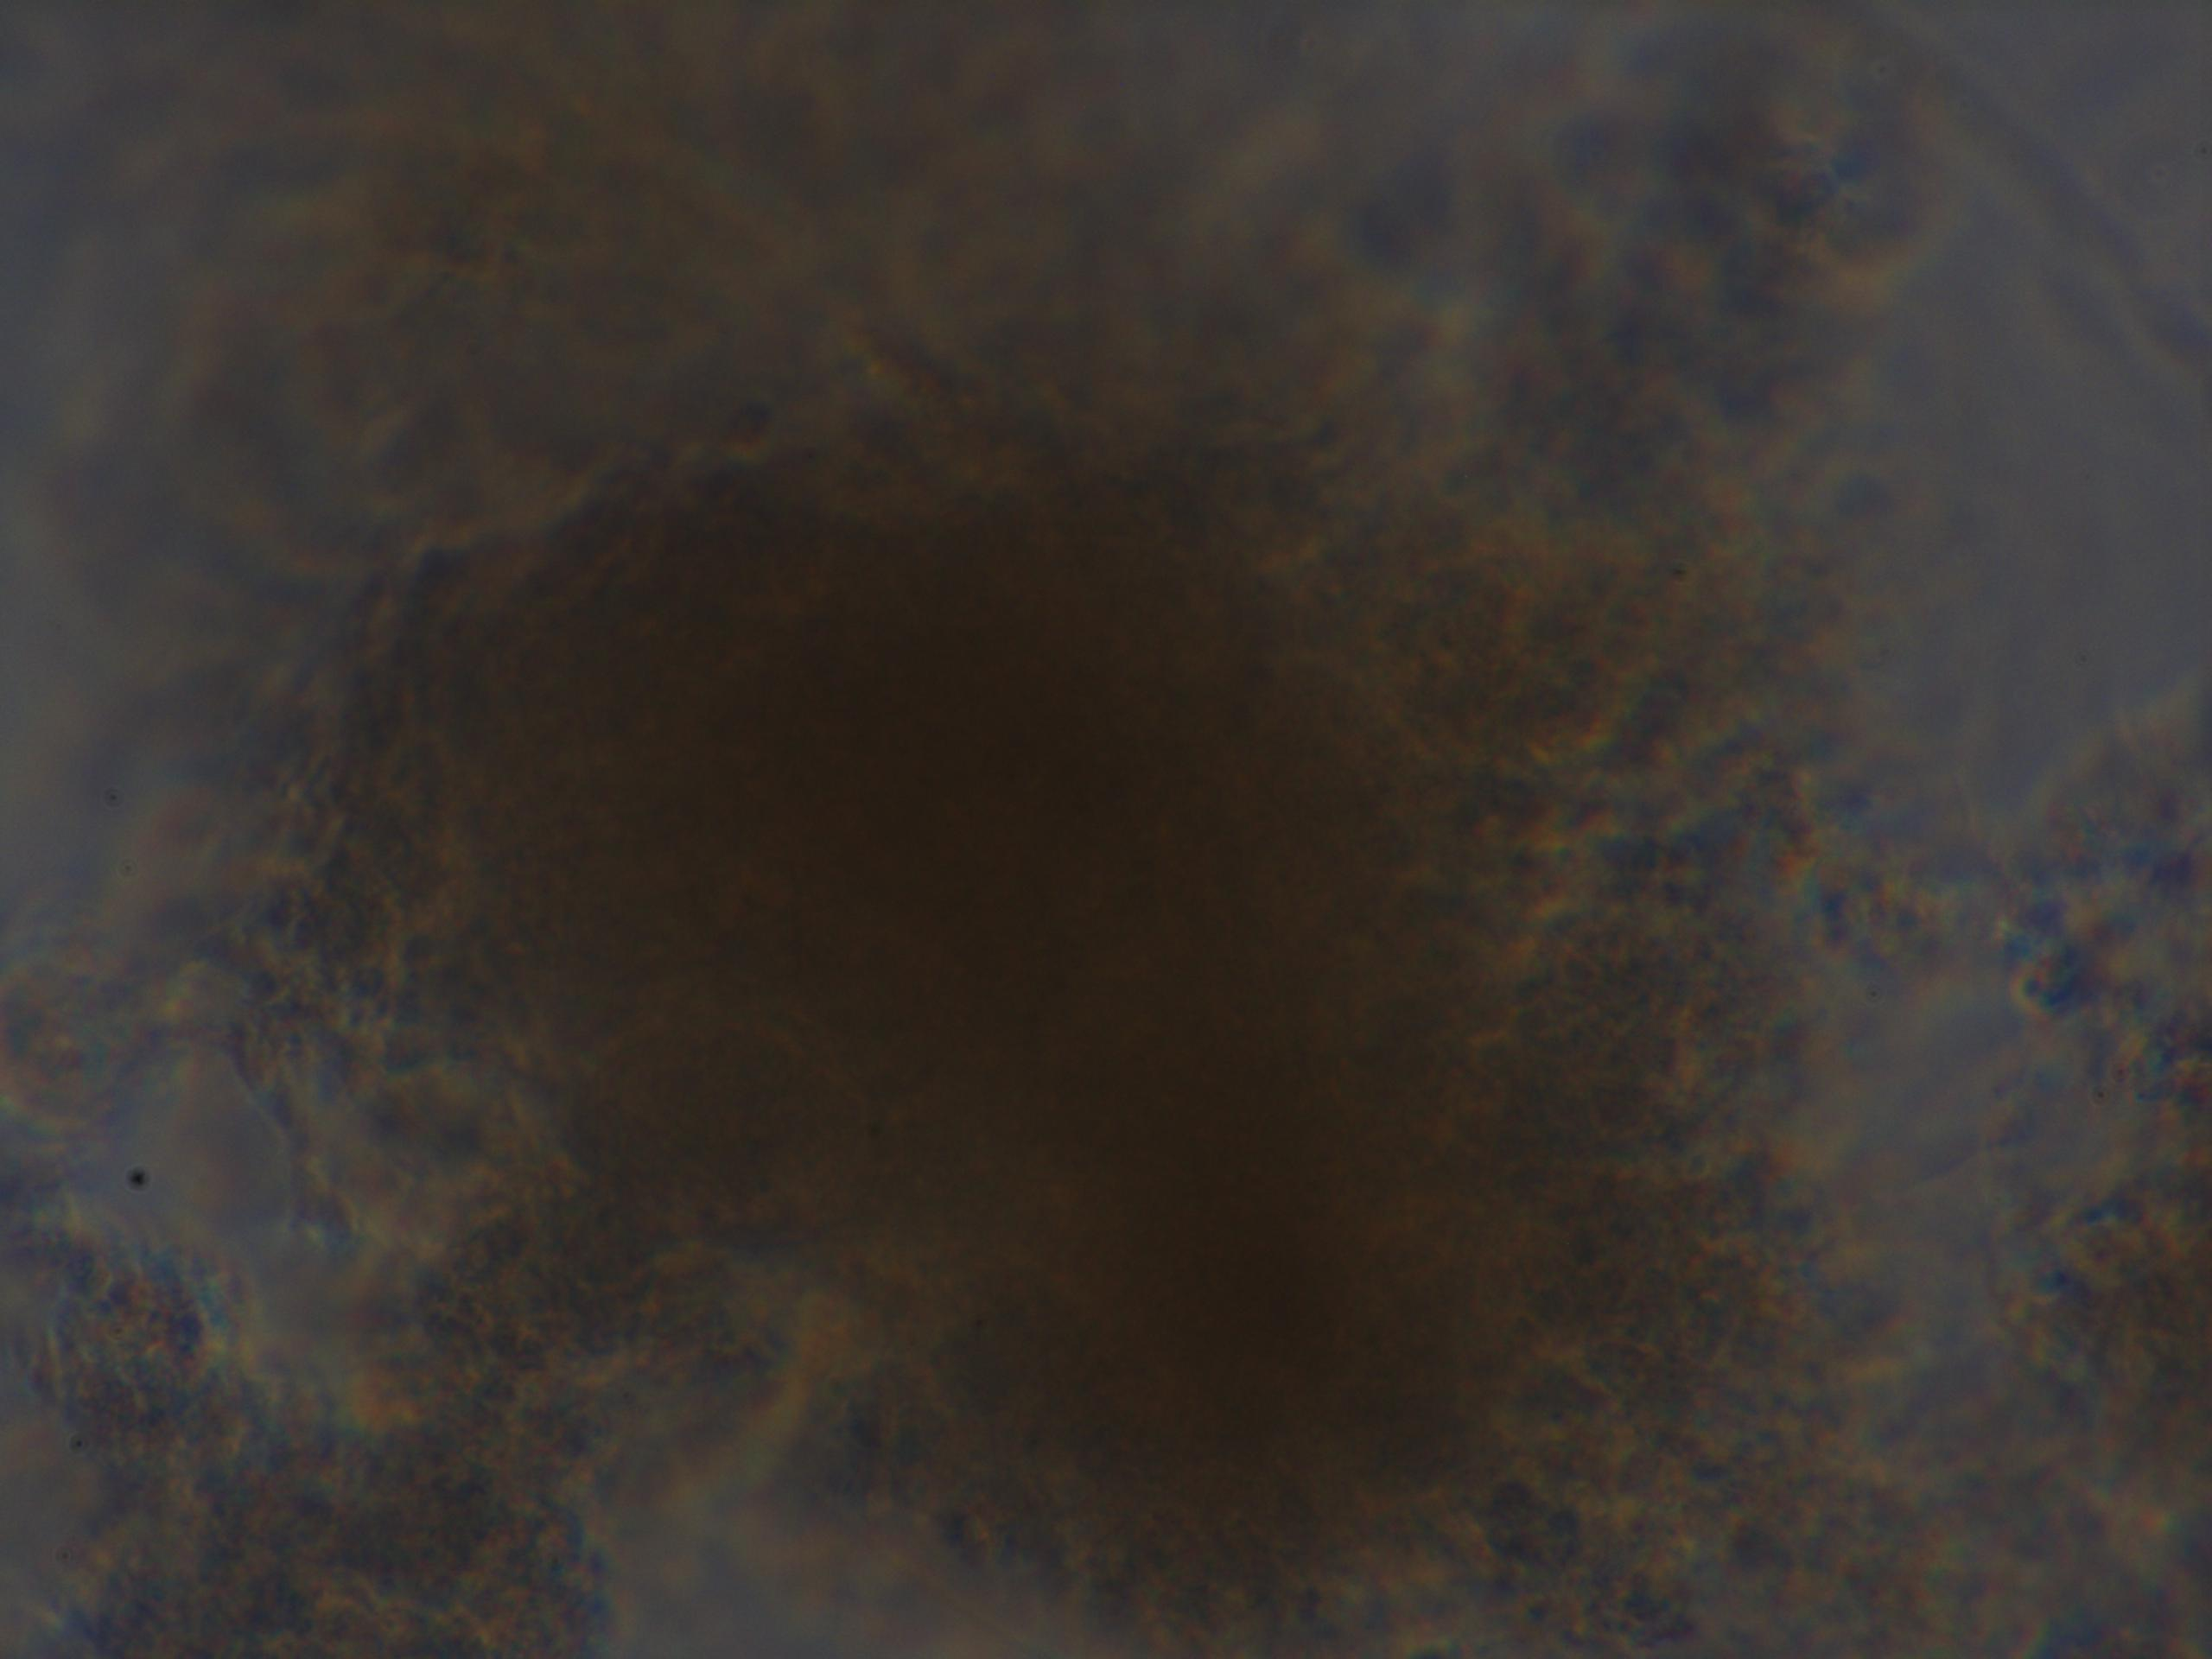spherical_floc: (273, 350, 1787, 1659)
